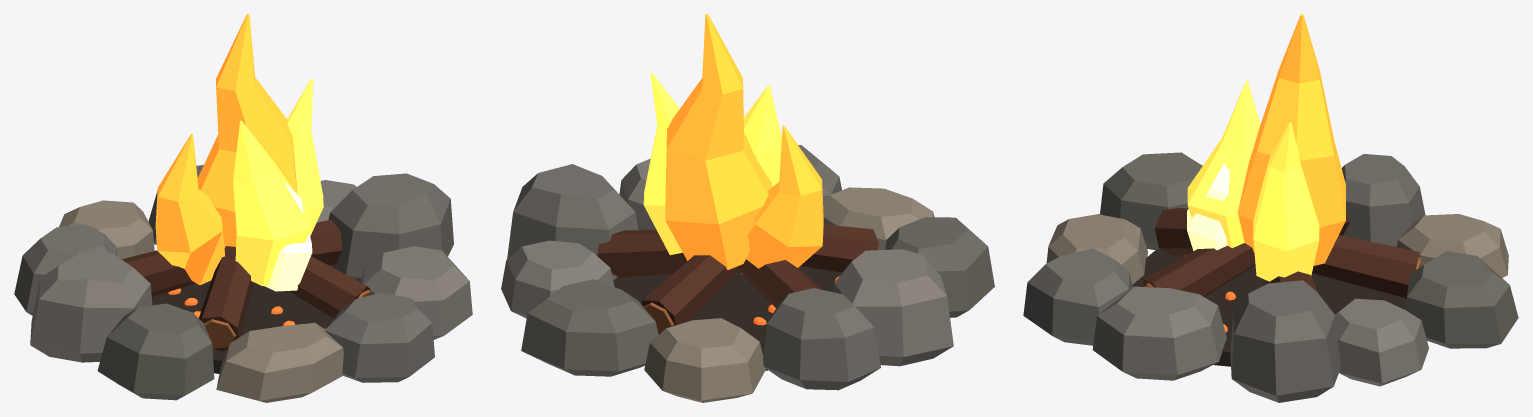
File: fire.glb
3 renders of one model, left to right at view 1: azimuth 30°, elevation 25°; view 2: azimuth 150°, elevation 25°; view 3: azimuth 270°, elevation 25°, orthographic. The views are drawn at different scales.
Parts seen in each view (by area): view 1: Stone Fire Ring, Flames; view 2: Stone Fire Ring, Flames; view 3: Stone Fire Ring, Flames.
Boxes of the visible parts, x1=… form: Stone Fire Ring: x1=14, y1=165, x2=472, y2=402; Flames: x1=155, y1=14, x2=323, y2=291; Stone Fire Ring: x1=501, y1=145, x2=994, y2=402; Flames: x1=643, y1=14, x2=823, y2=269; Stone Fire Ring: x1=1023, y1=152, x2=1518, y2=402; Flames: x1=1187, y1=14, x2=1345, y2=281.
Size of the model in its own units: 1.95 by 1.26 by 1.89.
